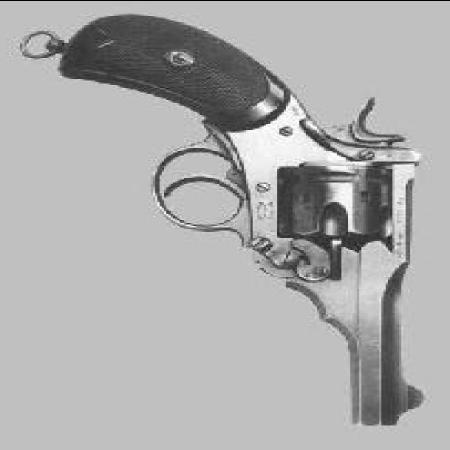Pistol: (64, 12, 430, 424)
